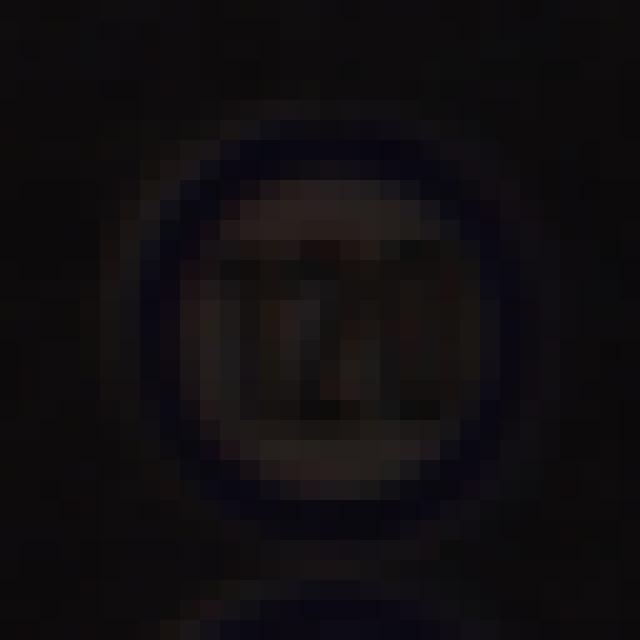SPEED LIMIT 120: (142, 137, 518, 499)
